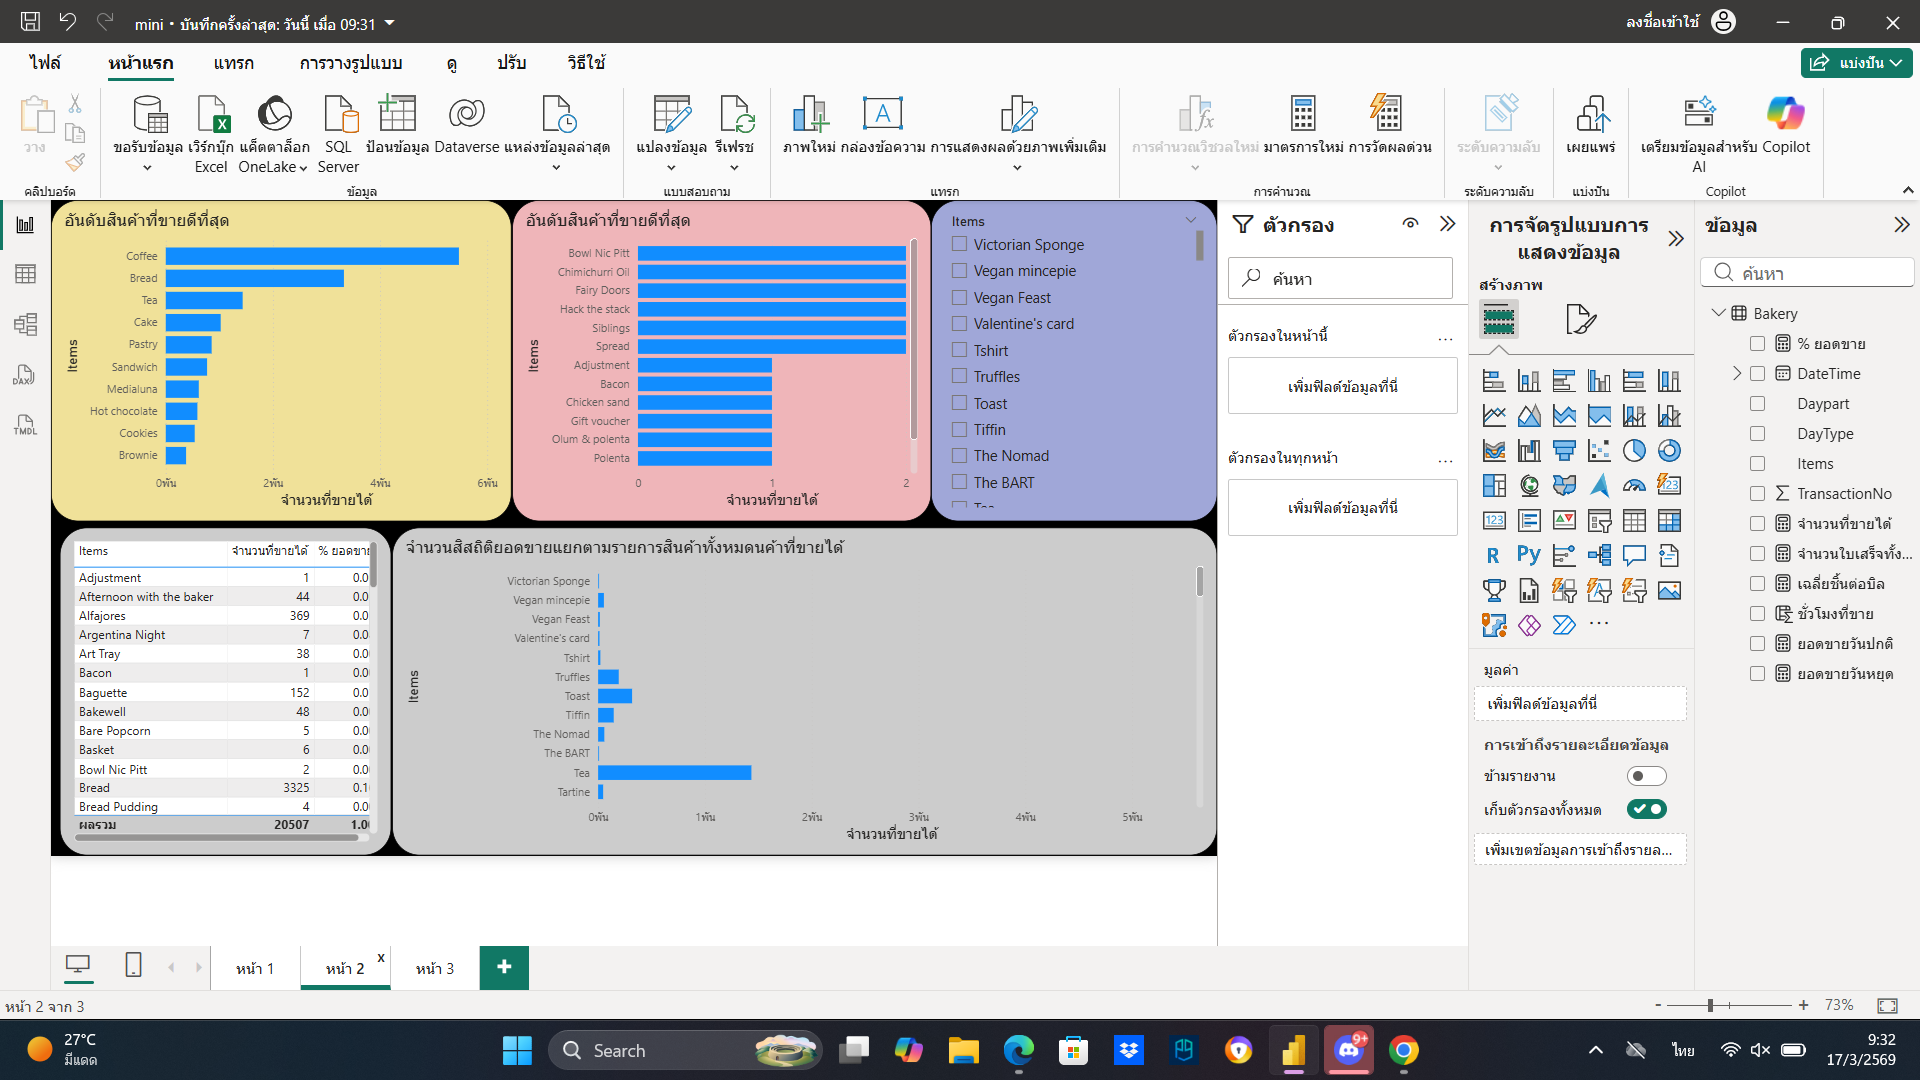

The dashboard page shown, as its layout file describes it:
{"tool":"powerbi","page":{"name":"หน้า 2","canvas":[1280,720],"ordinal":1},"visuals":[{"type":"barChart","title":"อันดับสินค้าที่ขายดีที่สุด","fields":{"Y":["Bakery.จำนวนที่ขายได้"],"Category":["Bakery.Items"]},"box":[0,0,505.7,352.9],"z":0},{"type":"slicer","fields":{"Values":["Bakery.Items"]},"box":[965.7,0,314.3,352.9],"z":1000},{"type":"tableEx","fields":{"Values":["Bakery.Items","Bakery.จำนวนที่ขายได้","Bakery.% ยอดขาย"]},"box":[10,360,364.3,360],"z":2000},{"type":"clusteredBarChart","title":"จำนวนสิสถิติยอดขายแยกตามรายการสินค้าทั้งหมดนค้าที่ขายได้","fields":{"Category":["Bakery.Items"],"Y":["Bakery.จำนวนที่ขายได้"]},"box":[374.3,360,905.7,360],"z":3000},{"type":"barChart","title":"อันดับสินค้าที่ขายดีที่สุด","fields":{"Y":["Bakery.จำนวนที่ขายได้"],"Category":["Bakery.Items"]},"box":[505.7,0,460,352.9],"z":4000}]}

Visuals, with their boxes on the page's 1280x720 design canvas (x1, y1, x2, y2). These are canvas units, not pixel positions in the 1920x1080 screenshot, which may show the page scaled, cropped or inside an application window:
"อันดับสินค้าที่ขายดีที่สุด" barChart: 0,0,506,353
slicer - Bakery.Items: 966,0,1280,353
tableEx - Bakery.Items x Bakery.จำนวนที่ขายได้: 10,360,374,720
"จำนวนสิสถิติยอดขายแยกตามรายการสินค้าทั้งหมดนค้าที่ขายได้" clusteredBarChart: 374,360,1280,720
"อันดับสินค้าที่ขายดีที่สุด" barChart: 506,0,966,353
